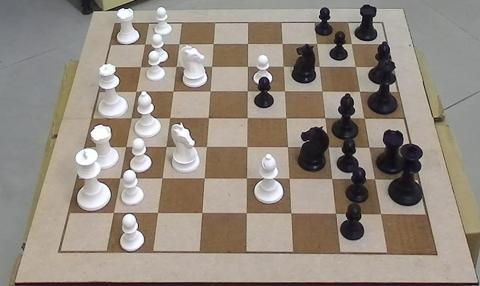xcorner: (277, 39, 287, 49), (242, 39, 252, 49), (208, 39, 218, 49), (173, 39, 183, 49), (139, 39, 149, 49), (355, 86, 365, 96), (317, 86, 327, 96), (242, 86, 252, 96), (205, 86, 215, 96), (130, 86, 140, 96), (320, 113, 330, 123), (281, 113, 291, 123), (125, 112, 135, 122), (365, 142, 375, 152), (324, 142, 334, 152), (283, 142, 293, 152), (242, 142, 252, 152), (120, 141, 130, 151), (199, 173, 209, 183), (114, 173, 124, 183), (197, 208, 207, 218), (152, 208, 162, 218), (347, 39, 356, 49), (312, 39, 321, 49), (314, 62, 324, 71), (278, 62, 288, 71), (242, 62, 252, 71), (206, 62, 216, 71), (135, 61, 144, 71), (280, 86, 289, 96), (168, 86, 177, 96), (360, 113, 369, 123), (242, 113, 252, 122), (203, 113, 213, 122), (164, 113, 174, 122), (201, 142, 211, 151), (371, 174, 380, 184), (328, 174, 337, 184), (242, 174, 252, 183), (157, 173, 166, 183), (377, 209, 386, 219), (332, 209, 341, 219), (242, 208, 251, 218), (351, 62, 360, 71), (171, 62, 180, 71), (161, 142, 170, 151), (285, 174, 294, 183), (287, 209, 296, 218), (108, 208, 117, 217)
